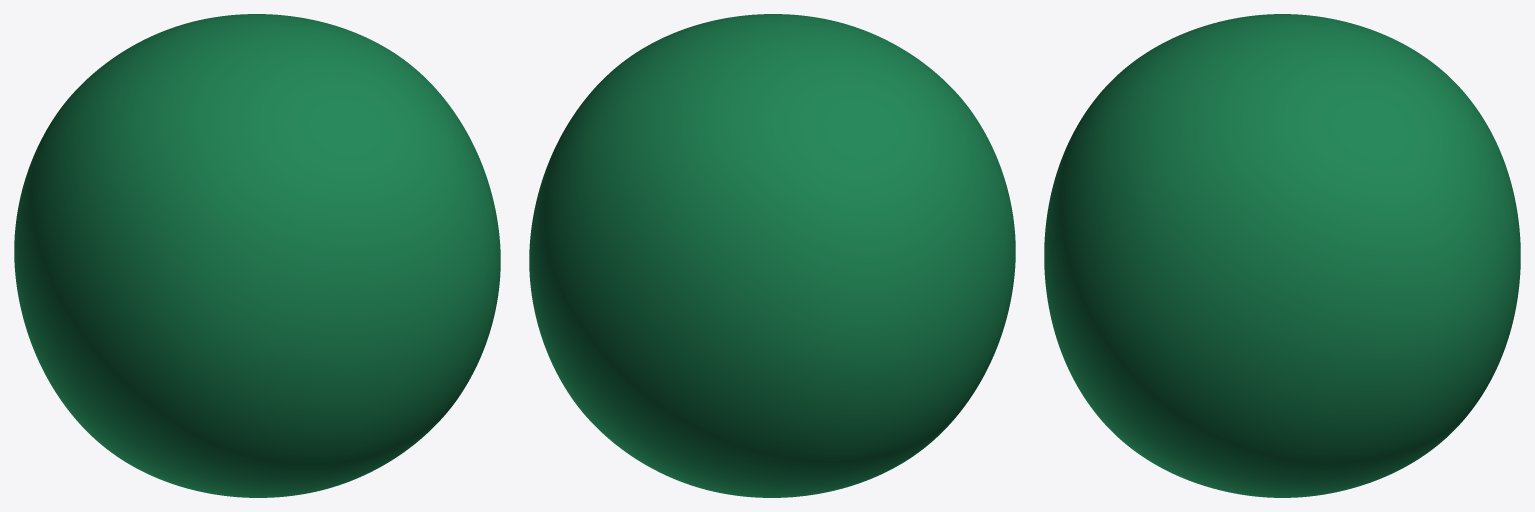
Rendered from Planet_Prototype_3.fbx.
3 views of the same model, side by side, from view 1: azimuth 30°, elevation 25°; view 2: azimuth 150°, elevation 25°; view 3: azimuth 270°, elevation 25° (orthographic).
Parts seen in each view (by area): view 1: Planet; view 2: Planet; view 3: Planet.
Boxes of the visible parts, x1,y1,x2,y2 form: Planet: [14, 14, 500, 497]; Planet: [529, 14, 1015, 497]; Planet: [1044, 14, 1520, 497].
Size of the model in its own units: 840 by 840 by 840.
